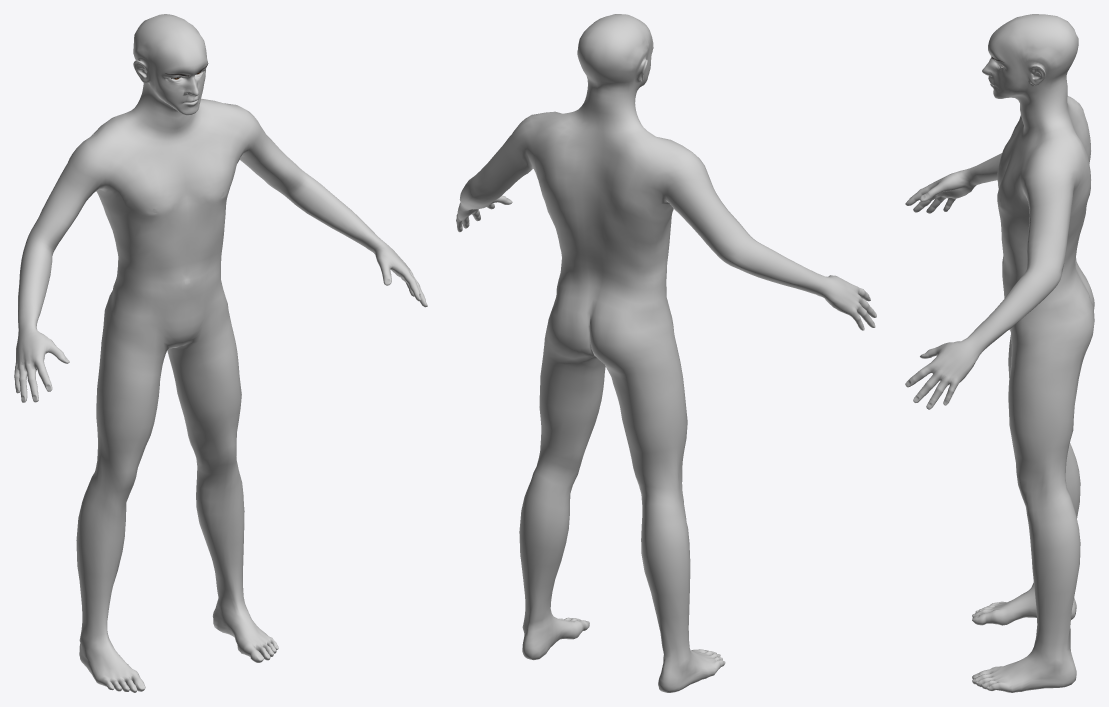
Rendered from head_base_v2_clay.glb.
3 renders of one model, left to right at view 1: azimuth 30°, elevation 25°; view 2: azimuth 150°, elevation 25°; view 3: azimuth 270°, elevation 25°, orthographic.
Visible parts, largest first — view 1: body; view 2: body; view 3: body.
Part boxes in pixels (bbox=[...]): body: bbox=[14, 14, 427, 692]; body: bbox=[456, 14, 876, 692]; body: bbox=[905, 14, 1094, 692].
Bounding box in the file's own units: 1.11 × 1.67 × 0.4497.
4 materials, 3 textured.
